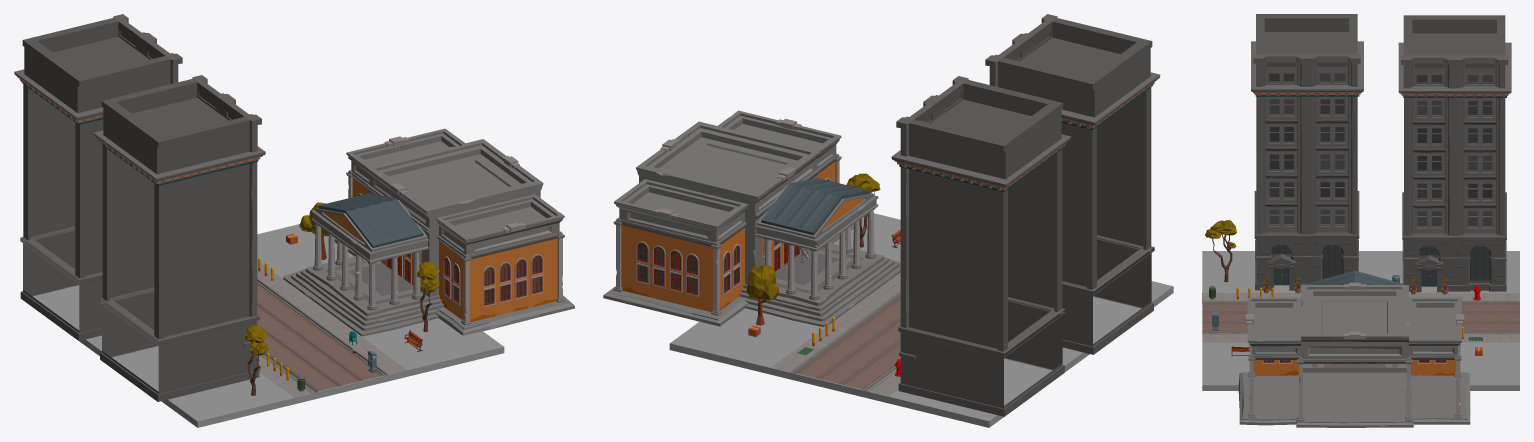
The model's file is City Area 2.fbx.
3 views of the same model, side by side, from view 1: azimuth 30°, elevation 25°; view 2: azimuth 150°, elevation 25°; view 3: azimuth 270°, elevation 25° (orthographic). The views are drawn at different scales.
Visible parts, largest first — view 1: SM_Bld_OfficeOld_Small_02.002, SM_Bld_CityHall_01.002, SM_Bld_OfficeOld_Small_02, Plane.001, SM_Env_Sidewalk_Straight_01.020, SM_Env_Tree_02.003, SM_Env_Tree_02.005; view 2: SM_Bld_OfficeOld_Small_02, SM_Bld_CityHall_01.002, SM_Bld_OfficeOld_Small_02.002, Plane.001, SM_Env_Sidewalk_Straight_01.020, SM_Env_Tree_03.005, SM_Env_Tree_02.005; view 3: SM_Bld_CityHall_01.002, SM_Bld_OfficeOld_Small_02, SM_Bld_OfficeOld_Small_02.002, Plane.001, SM_Env_Sidewalk_Straight_01.020, SM_Env_Tree_02.003.
Boxes of the visible parts, box(x1,y1,x2,y2) form: SM_Bld_OfficeOld_Small_02.002: box(93, 75, 265, 401); SM_Bld_CityHall_01.002: box(283, 128, 574, 336); SM_Bld_OfficeOld_Small_02: box(14, 14, 182, 340); Plane.001: box(20, 224, 504, 427); SM_Env_Sidewalk_Straight_01.020: box(257, 258, 406, 397); SM_Env_Tree_02.003: box(245, 325, 268, 395); SM_Env_Tree_02.005: box(417, 261, 439, 331); SM_Bld_OfficeOld_Small_02: box(891, 76, 1071, 416); SM_Bld_CityHall_01.002: box(603, 110, 900, 327); SM_Bld_OfficeOld_Small_02.002: box(985, 14, 1160, 354); Plane.001: box(669, 213, 1173, 427); SM_Env_Sidewalk_Straight_01.020: box(771, 273, 900, 396); SM_Env_Tree_03.005: box(746, 265, 778, 325); SM_Env_Tree_02.005: box(846, 173, 880, 247); SM_Bld_CityHall_01.002: box(1238, 270, 1470, 427); SM_Bld_OfficeOld_Small_02: box(1398, 15, 1511, 292); SM_Bld_OfficeOld_Small_02.002: box(1251, 14, 1363, 290); Plane.001: box(1202, 251, 1519, 390); SM_Env_Sidewalk_Straight_01.020: box(1202, 285, 1519, 342); SM_Env_Tree_02.003: box(1205, 220, 1236, 282).
Bounding box in the file's own units: 13707 × 8292 × 10011.
